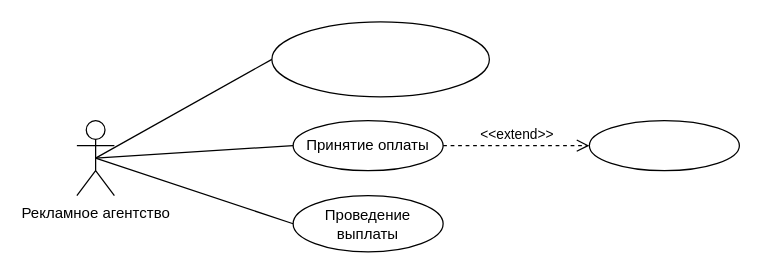
This 761x274 diagram has some shape labels left out. The shapes that lost their labels are listed below. From the top down, each one's box as (x1, y1, x2, y2) in pixels, then its label:
(271, 21, 489, 97): Формирование списка подходящих предложений
(588, 119, 739, 171): Подтверждение оплаты
